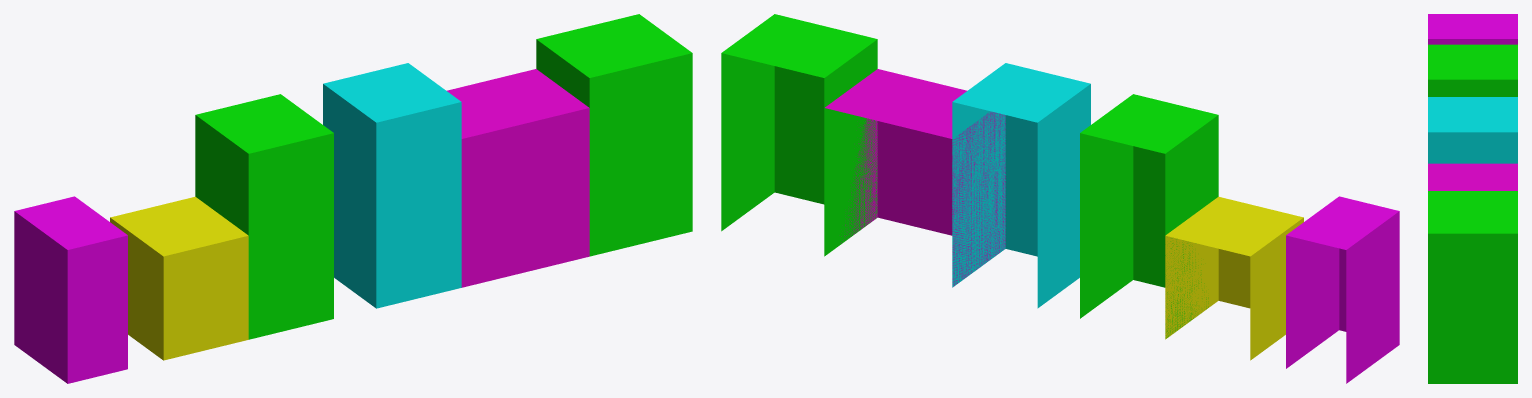
The model's file is MY_BuildingSetOne.fbx.
3 views of the same model, side by side, from view 1: azimuth 30°, elevation 25°; view 2: azimuth 150°, elevation 25°; view 3: azimuth 270°, elevation 25° (orthographic). The views are drawn at different scales.
Parts seen in each view (by area): view 1: Building5, Building7, Building3, Building6, Building1, Building2; view 2: Building7, Building5, Building3, Building6, Building1, Building2; view 3: Building7, Building5, Building3, Building1, Building6.
Boxes of the visible parts, <box> form: Building5: <box>323,63,461,308</box>; Building7: <box>536,14,692,256</box>; Building3: <box>195,94,333,339</box>; Building6: <box>446,69,589,287</box>; Building1: <box>14,196,127,383</box>; Building2: <box>110,196,248,360</box>; Building7: <box>721,14,877,256</box>; Building5: <box>952,63,1090,308</box>; Building3: <box>1080,94,1218,337</box>; Building6: <box>825,69,1005,287</box>; Building1: <box>1286,196,1399,383</box>; Building2: <box>1165,196,1303,360</box>; Building7: <box>1428,191,1517,383</box>; Building5: <box>1428,97,1517,163</box>; Building3: <box>1428,44,1517,96</box>; Building1: <box>1428,14,1517,44</box>; Building6: <box>1428,163,1517,190</box>.
Size of the model in its own units: 176 by 50 by 26.
